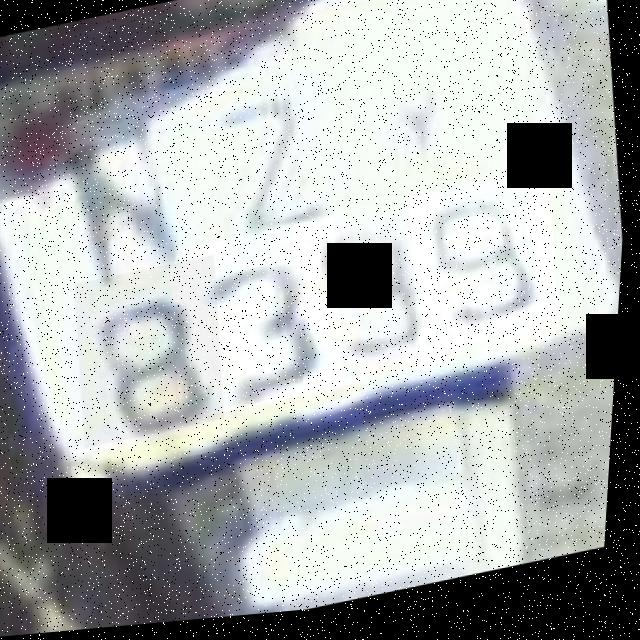3: (164, 221, 357, 426)
8: (287, 199, 457, 406), (70, 257, 237, 451)
9: (404, 176, 574, 383)
N: (53, 92, 222, 292)
Z: (192, 60, 365, 261)
